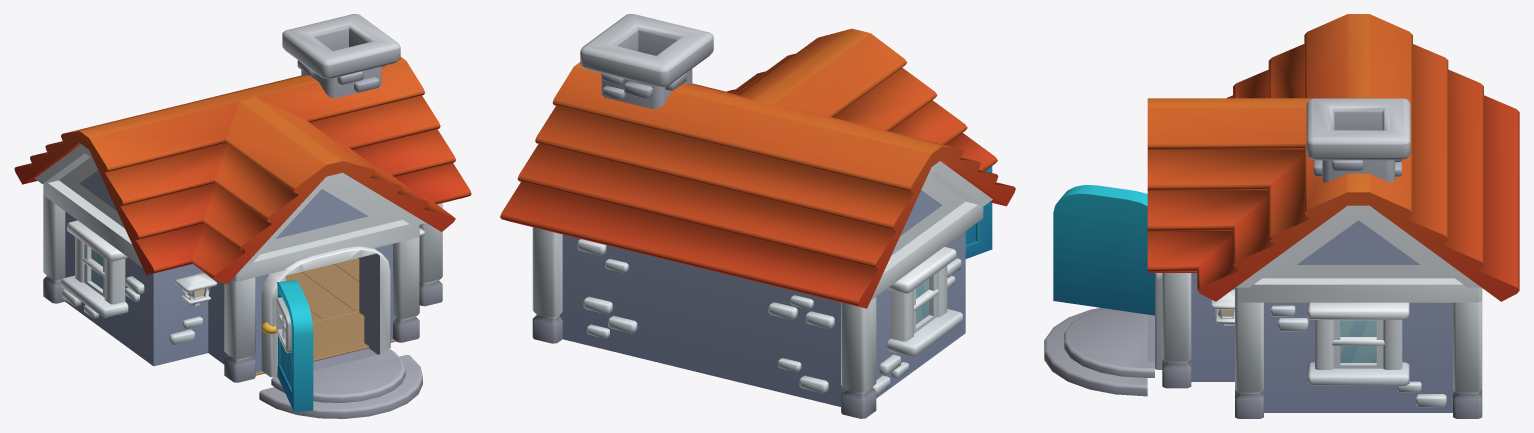
File: shop-BgkR4f9e.glb
3 views of the same model, side by side, from view 1: azimuth 30°, elevation 25°; view 2: azimuth 150°, elevation 25°; view 3: azimuth 270°, elevation 25° (orthographic). The views are drawn at different scales.
Parts seen in each view (by area): view 1: roof_house.001, body_house, roof_original_chimney, body_open_original_door, interior_floor, interior_floor_entry; view 2: roof_house.001, body_house, roof_original_chimney, body_open_original_door; view 3: roof_house.001, body_house, body_open_original_door, roof_original_chimney.
Boxes of the visible parts, bbox=[...] form: roof_house.001: bbox=[14, 57, 471, 284]; body_house: bbox=[43, 195, 442, 418]; roof_original_chimney: bbox=[282, 14, 400, 98]; body_open_original_door: bbox=[261, 280, 313, 412]; interior_floor: bbox=[286, 258, 359, 322]; interior_floor_entry: bbox=[255, 312, 396, 375]; roof_house.001: bbox=[500, 28, 1015, 308]; body_house: bbox=[532, 227, 965, 418]; roof_original_chimney: bbox=[580, 14, 713, 109]; body_open_original_door: bbox=[965, 166, 992, 258]; roof_house.001: bbox=[1147, 14, 1519, 302]; body_house: bbox=[1044, 273, 1482, 418]; body_open_original_door: bbox=[1053, 185, 1154, 315]; roof_original_chimney: bbox=[1306, 98, 1410, 182].
Size of the model in its own units: 354 by 265 by 393.
Materials: 3 (1 with a texture image).
